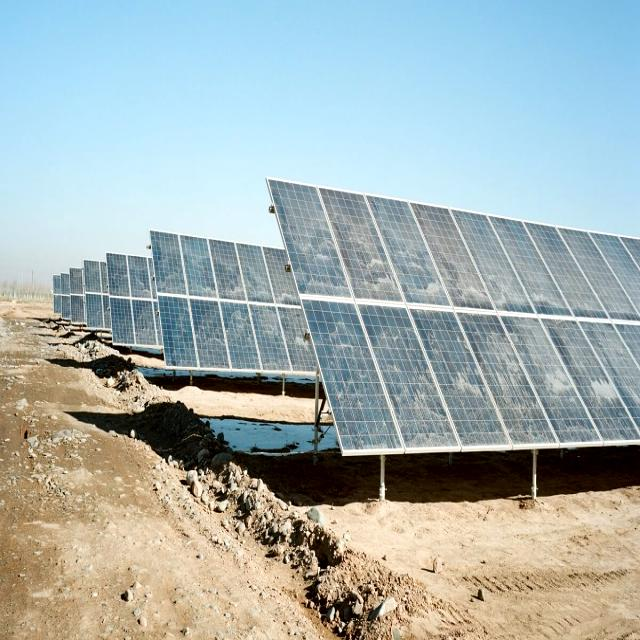dust: (162, 250, 298, 350), (340, 309, 430, 457), (294, 200, 382, 298), (392, 208, 471, 308), (541, 342, 626, 424), (448, 321, 507, 434), (108, 260, 164, 344), (522, 238, 582, 314), (476, 237, 520, 308), (84, 266, 110, 322)
